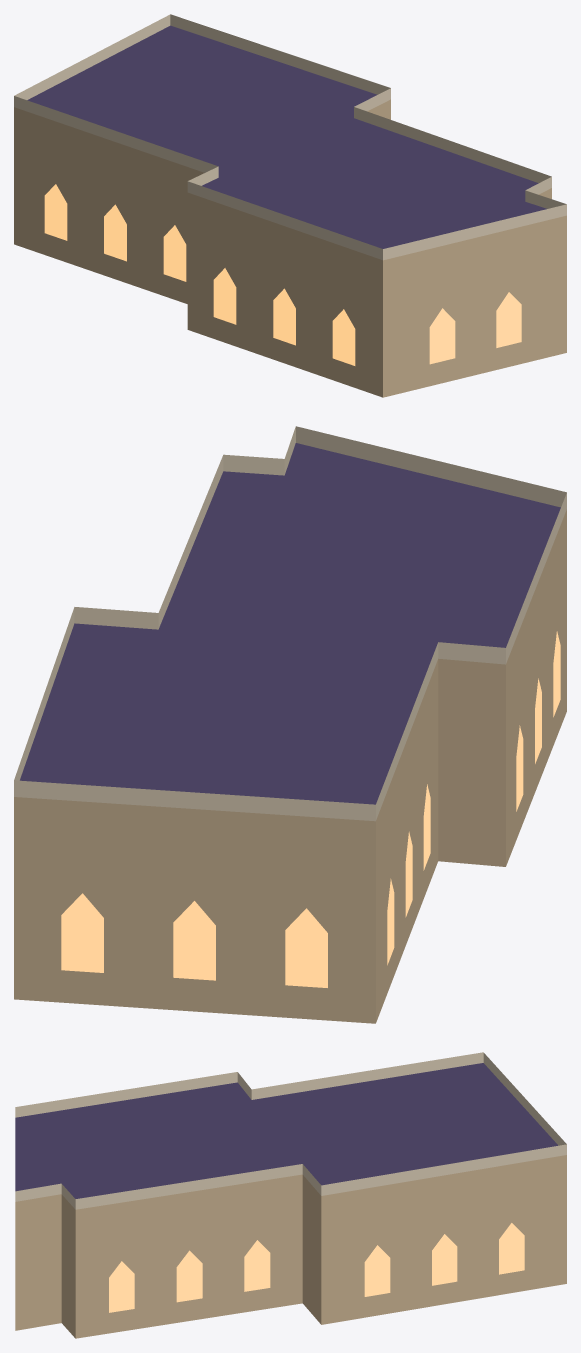
The picture shows the model from 3 angles, top to bottom: view 1: azimuth 30°, elevation 25°; view 2: azimuth 150°, elevation 25°; view 3: azimuth 270°, elevation 25°; orthographic projection. The views are drawn at different scales.
Parts seen in each view (by area): view 1: campus/b-131-0; view 2: campus/b-131-0; view 3: campus/b-131-0.
Boxes of the visible parts, x1,y1,x2,y2 form: campus/b-131-0: [14, 14, 566, 397]; campus/b-131-0: [14, 426, 566, 1023]; campus/b-131-0: [15, 1052, 566, 1338].
Size of the model in its own units: 16.37 by 7.25 by 26.04.
